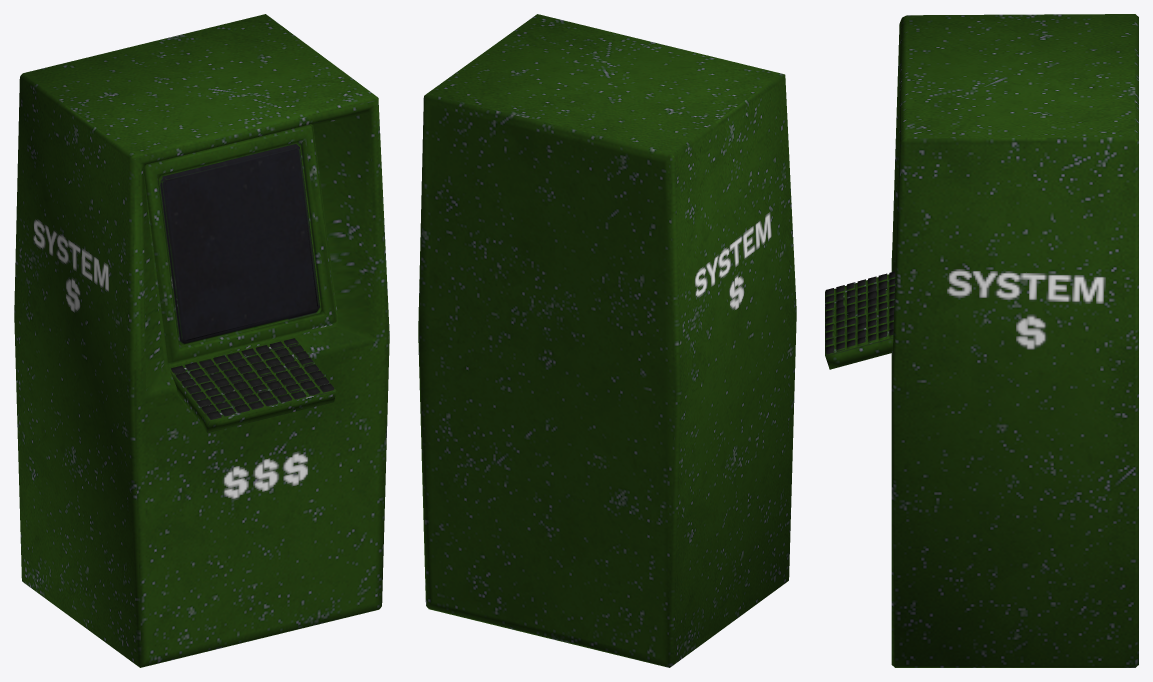
The model's file is bankomat.fbx.
The picture shows the model from 3 angles, left to right: view 1: azimuth 30°, elevation 25°; view 2: azimuth 150°, elevation 25°; view 3: azimuth 270°, elevation 25°; orthographic projection. The views are drawn at different scales.
Parts seen in each view (by area): view 1: Cube; view 2: Cube; view 3: Cube.
Boxes of the visible parts, left/top/right/bottom form: Cube: left=14, top=14, right=389, bottom=667; Cube: left=418, top=14, right=796, bottom=667; Cube: left=825, top=14, right=1138, bottom=667.
Bounding box in the file's own units: 116 × 217 × 116.
2 materials, 2 textured.
